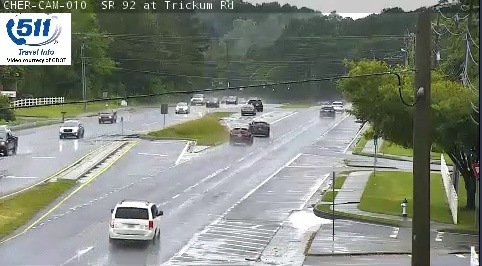car: (109, 201, 161, 242), (230, 127, 253, 143), (252, 120, 269, 136)
